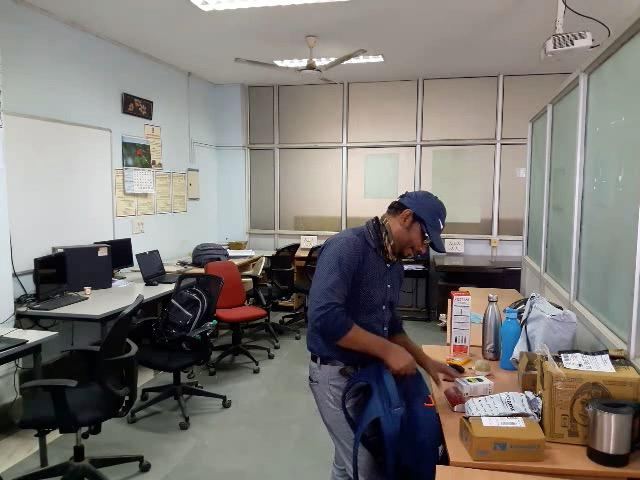shoplifting: (289, 272, 489, 478)
